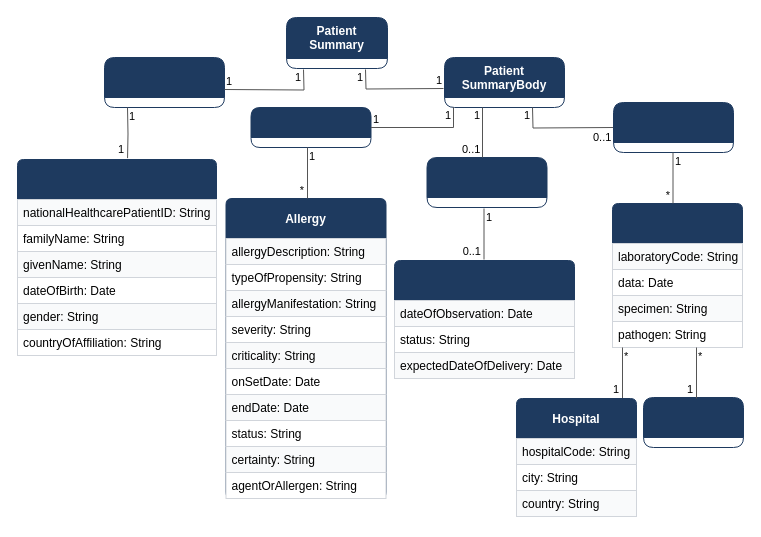
This 761x537 diagram has some shape labels left out. Each missing label, with the box of its shape:
Alerts: (250, 106, 371, 148)
AMRStudy: (642, 396, 744, 448)
CurrencyPregnancyStatus: (394, 260, 574, 378)
Isolate: (612, 202, 742, 348)
Isolate History: (612, 102, 734, 152)
Patient Identification: (16, 158, 216, 356)
Patient SummaryHeader: (104, 56, 224, 108)
Pregnancy History: (426, 156, 547, 208)
